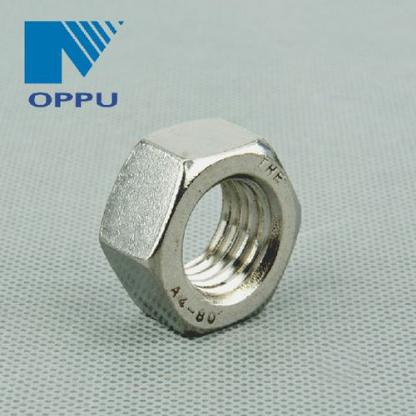FOD: (96, 110, 305, 348)
